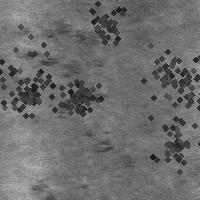rolled-in_scale: (0, 20, 76, 136), (122, 26, 200, 126), (140, 107, 200, 175), (57, 87, 117, 154), (13, 45, 102, 89), (73, 0, 131, 51), (50, 72, 104, 126), (34, 15, 110, 42), (7, 72, 47, 112), (30, 179, 58, 200)
